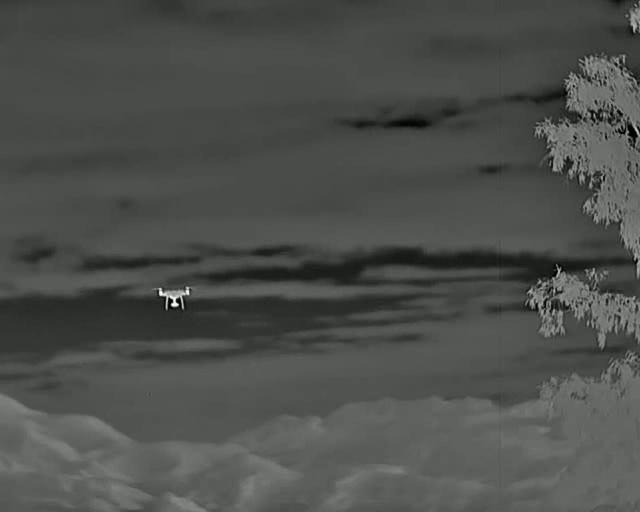DJI-Phantom: (149, 282, 197, 315)
